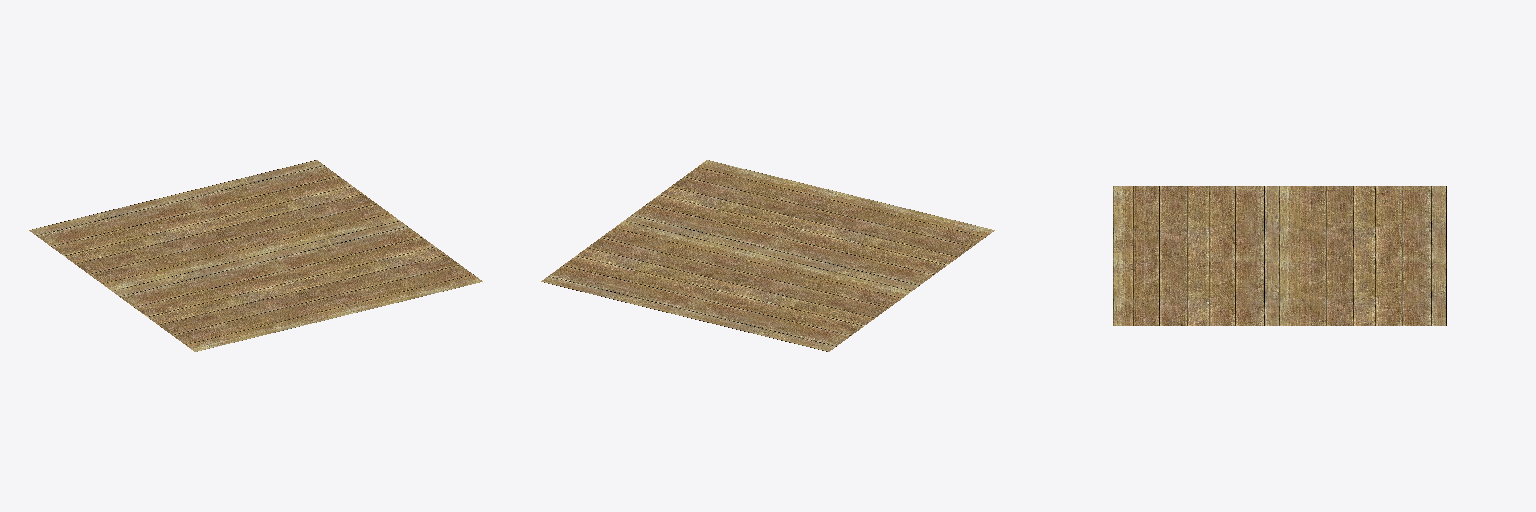
The picture shows the model from 3 angles: view 1: azimuth 30°, elevation 25°; view 2: azimuth 150°, elevation 25°; view 3: azimuth 270°, elevation 25°; orthographic projection.
Parts seen in each view (by area): view 1: Floor; view 2: Floor; view 3: Floor.
Boxes of the visible parts, box(x1,y1,x2,y2) form: Floor: box(29, 160, 482, 351); Floor: box(541, 160, 994, 351); Floor: box(1113, 186, 1446, 325).
Bounding box in the file's own units: 30 × 0 × 30.
1 materials, 1 textured.